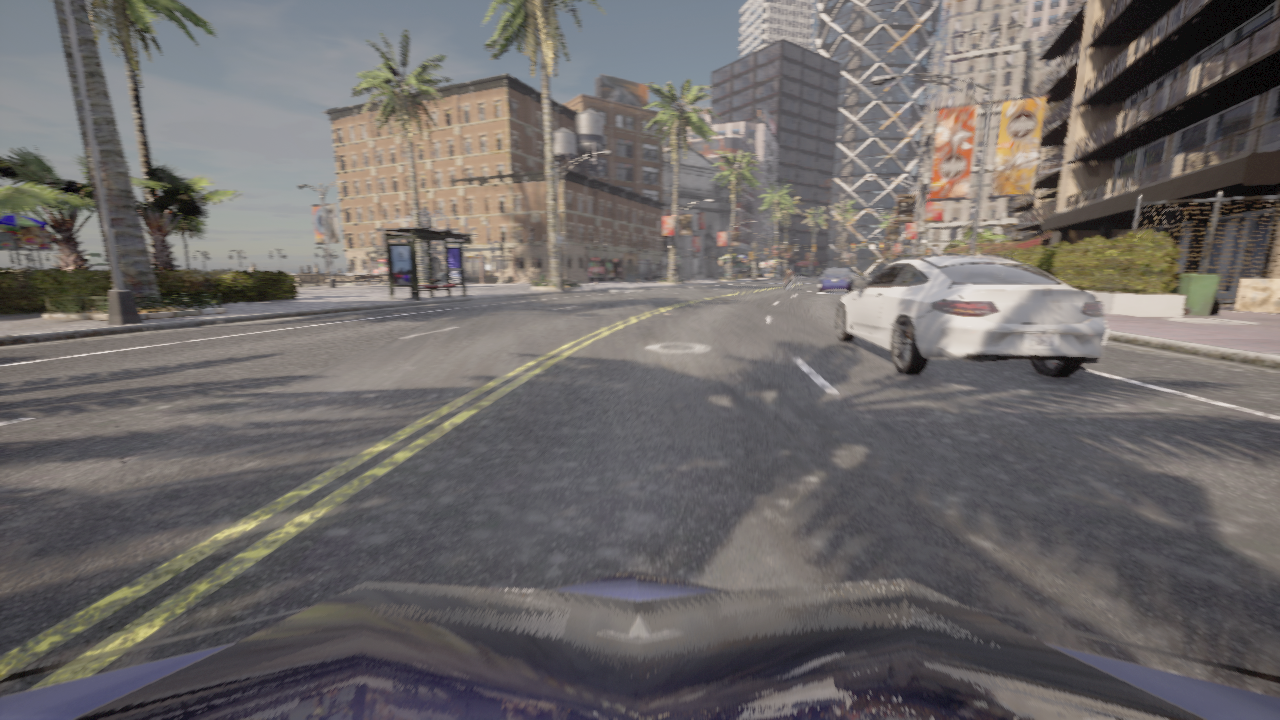cyclist: (0, 569, 1279, 719), (831, 254, 1108, 377), (818, 269, 855, 292), (785, 273, 794, 289)
